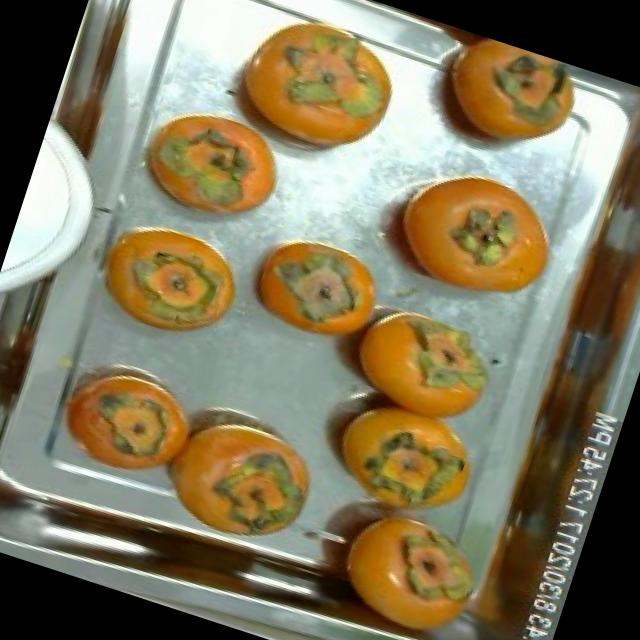Fruit: (348, 124, 590, 334), (199, 0, 422, 189), (132, 372, 348, 563), (114, 80, 308, 250), (396, 19, 598, 182), (71, 200, 264, 366), (309, 484, 510, 640), (29, 336, 211, 499), (222, 211, 404, 364)
